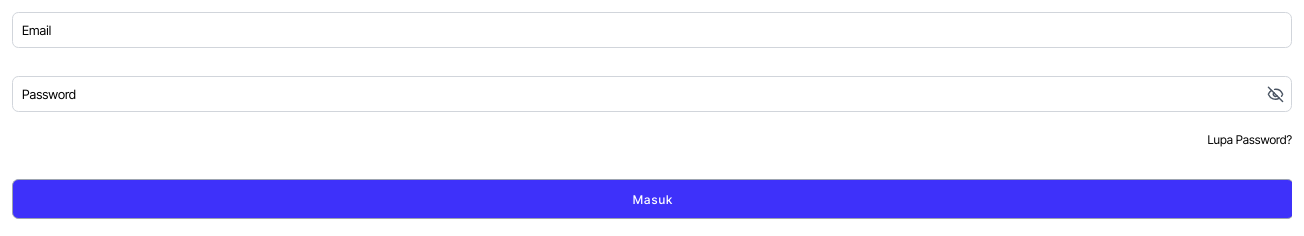
Test case: LoginView Component › shows error messages when form is submitted empty
# Submit form
Click the button "Masuk": click(652, 199) [12,179,1292,219]
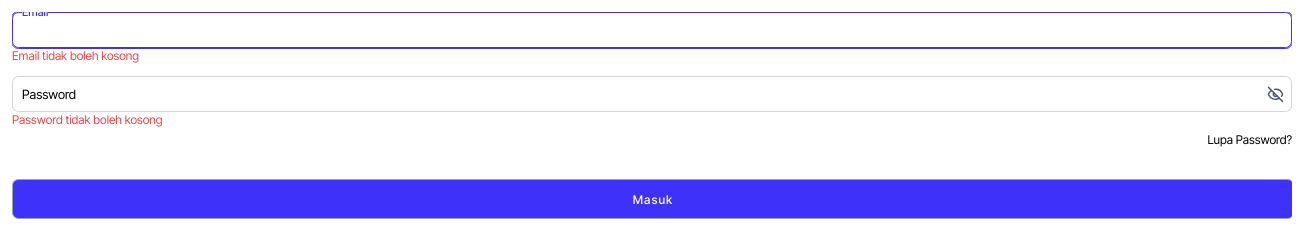
Now the text "Email tidak boleh kosong" is shown, box [12,48,139,63]
Now the text "Password tidak boleh kosong" is shown, box [12,112,162,127]
